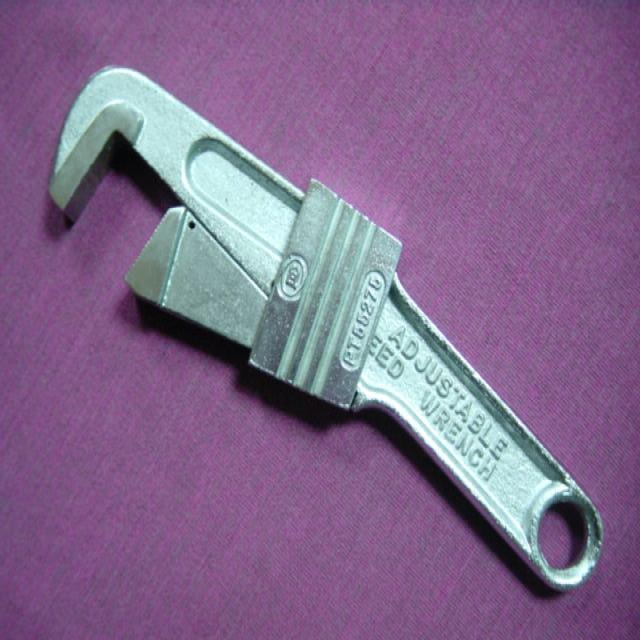wrench: (50, 68, 602, 589)
